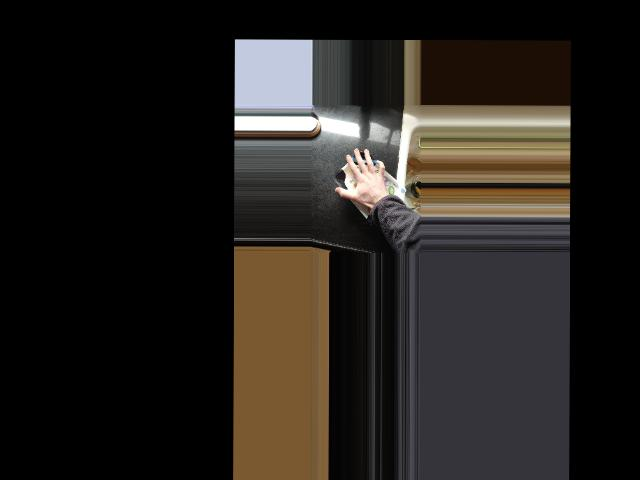cheese: (332, 149, 408, 224)
